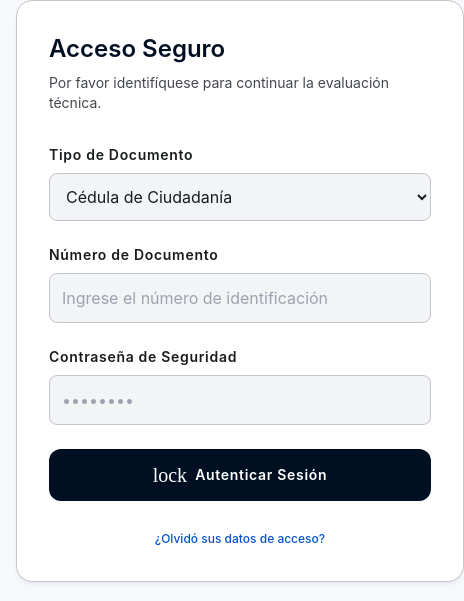
Scenario: AuthForm › strips non-alphanumeric characters from password
Type "abc!@#123" into the password field with placeholder "••••••••" at (240, 400), box left=49, top=375, right=431, bottom=425
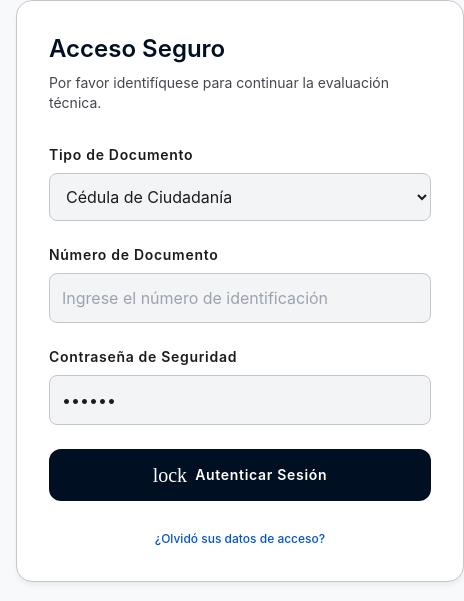
Check: the password field with placeholder "••••••••" holds "abc123", box left=49, top=375, right=431, bottom=425
